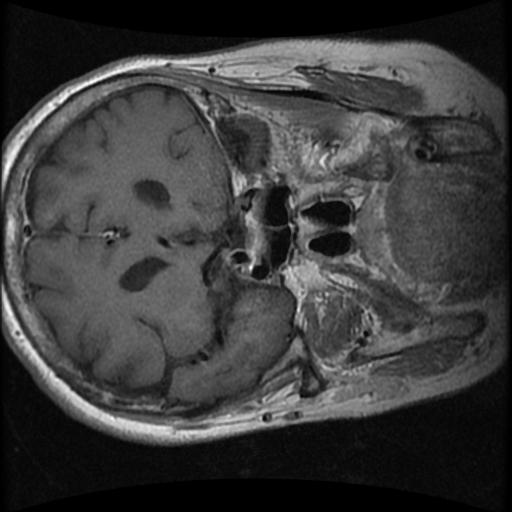pituitary tumour: (235, 202, 266, 277)
